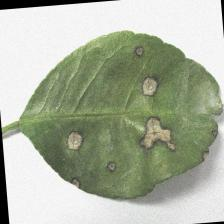canker: (52, 42, 198, 184)
